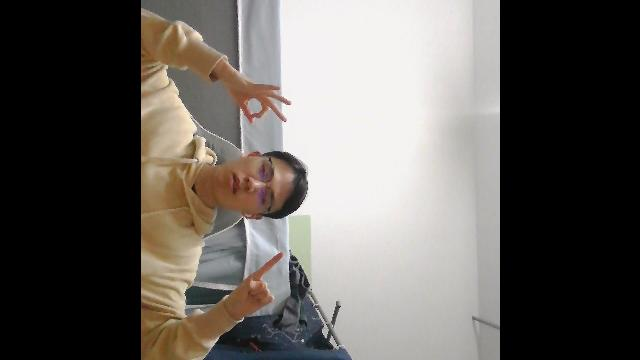ok: (225, 80, 295, 124)
one: (226, 248, 286, 320)
